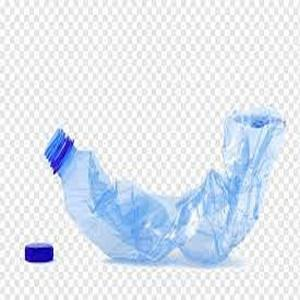Plastic: (43, 114, 282, 268)
